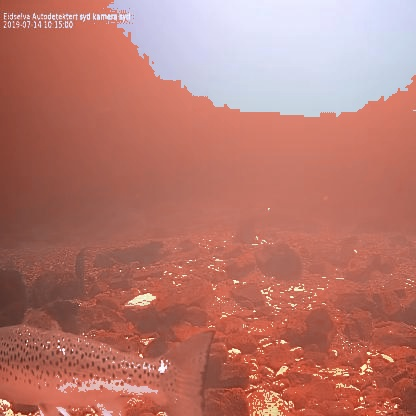salmon: (0, 304, 217, 416)
